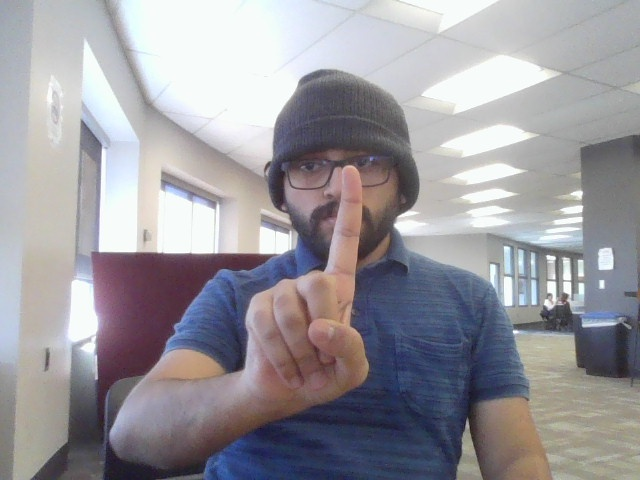one: (234, 158, 398, 422)
